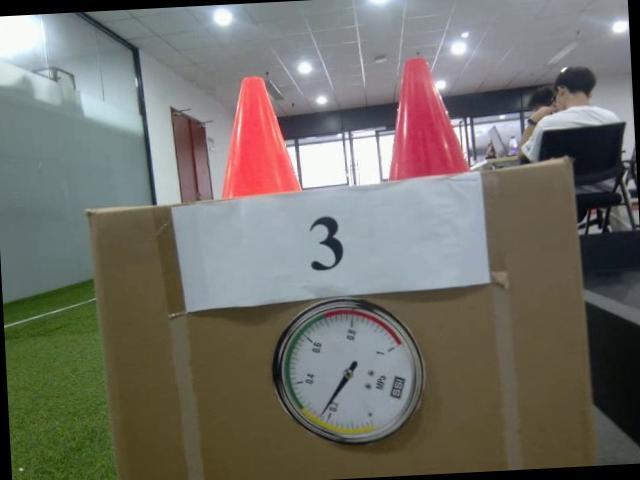3: (307, 214, 345, 276)
Dashboard: (266, 296, 429, 448)
orange_barrel: (217, 74, 300, 198)
red_barrel: (380, 55, 474, 179)
ssi: (388, 375, 407, 400)
